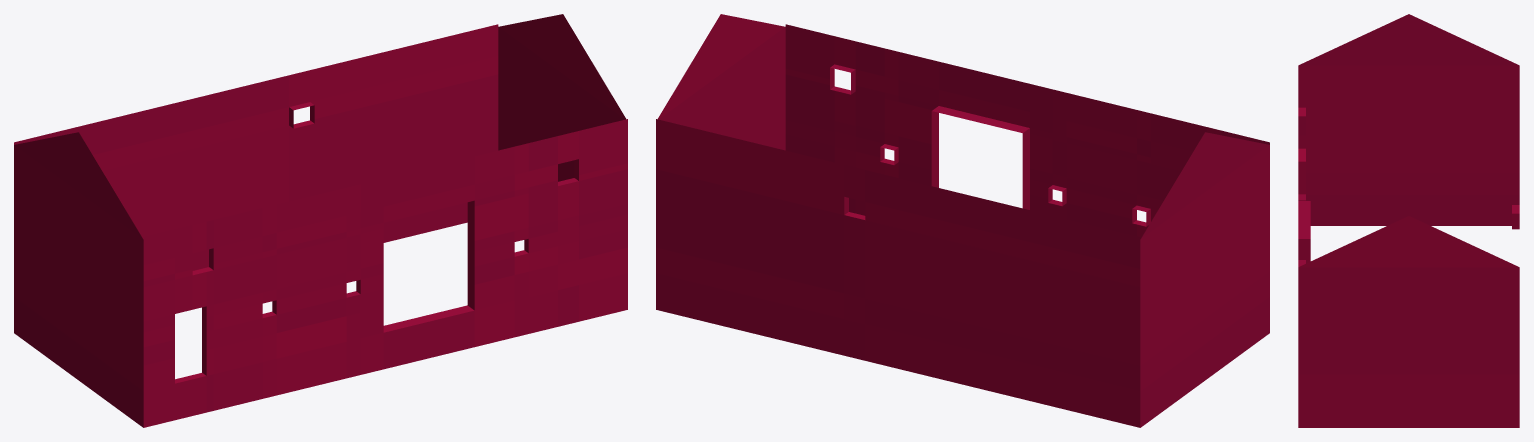
File: SM_Bld_001_Masonry.glb
The picture shows the model from 3 angles, left to right: view 1: azimuth 30°, elevation 25°; view 2: azimuth 150°, elevation 25°; view 3: azimuth 270°, elevation 25°; orthographic projection. The views are drawn at different scales.
Visible parts, largest first — view 1: SM_Bld_001_Masonry; view 2: SM_Bld_001_Masonry; view 3: SM_Bld_001_Masonry.
Part boxes in pixels (bbox=[...]): SM_Bld_001_Masonry: bbox=[14, 14, 627, 427]; SM_Bld_001_Masonry: bbox=[656, 14, 1269, 427]; SM_Bld_001_Masonry: bbox=[1298, 14, 1519, 427].
Size of the model in its own units: 13.83 by 6.78 by 6.4.
